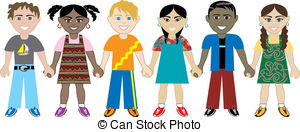face: (46, 3, 99, 39), (250, 3, 292, 41), (103, 1, 144, 38), (1, 1, 41, 38), (153, 3, 193, 39), (205, 2, 237, 39)
